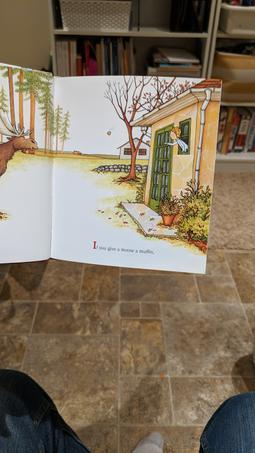text block: (86, 238, 163, 256)
